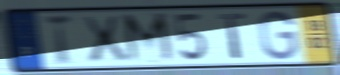5: (172, 12, 209, 63)
G: (257, 9, 300, 62)
M: (119, 11, 179, 66)
T: (42, 13, 76, 67), (215, 11, 249, 61)
X: (78, 14, 132, 65)
